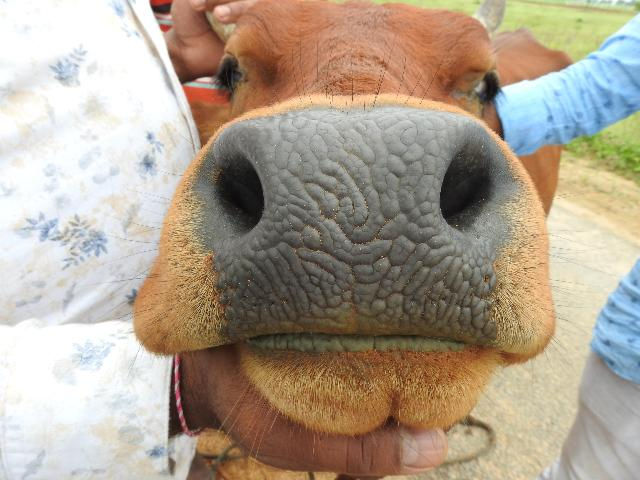Muzzle: (240, 114, 448, 318)
